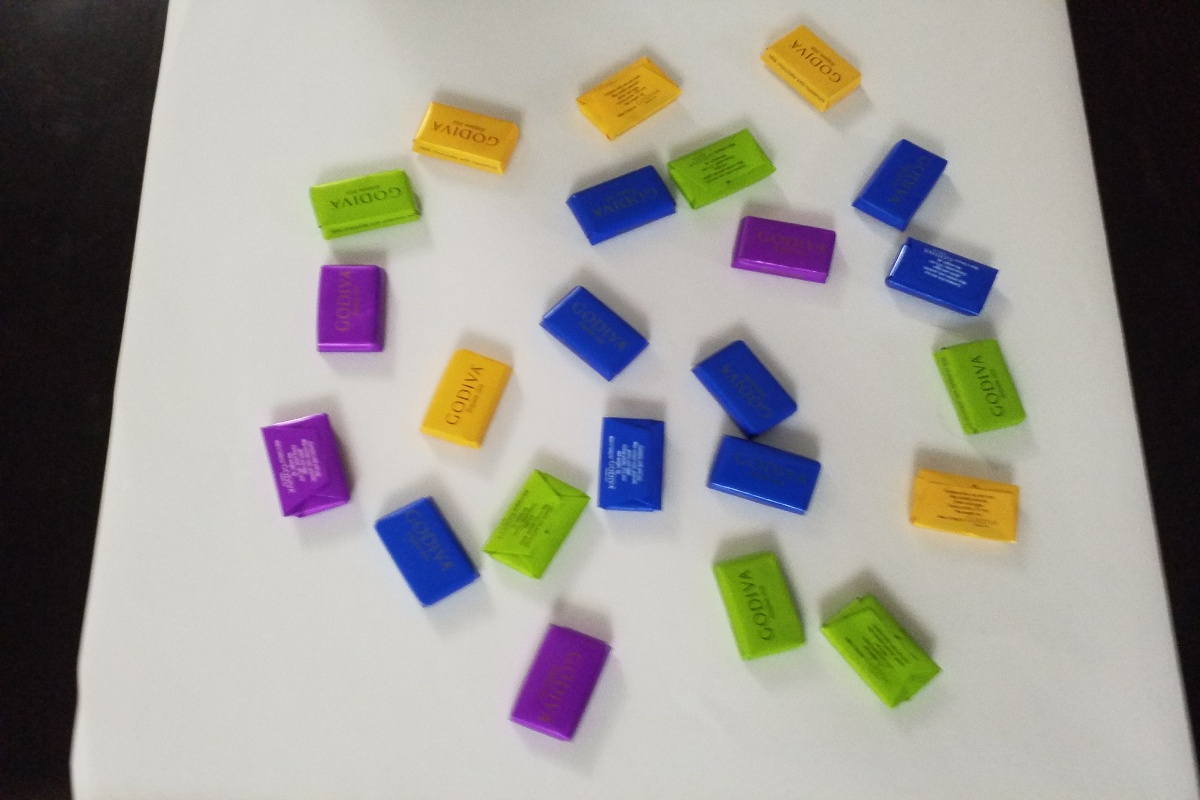chocolate_blue: (361, 496, 486, 615), (534, 287, 656, 397), (700, 427, 827, 524), (688, 339, 800, 439), (877, 237, 1006, 321), (561, 162, 682, 249), (849, 132, 953, 233), (585, 411, 678, 523)
chocolate_green: (815, 585, 947, 727), (702, 546, 814, 677), (923, 330, 1032, 449), (480, 463, 586, 581), (665, 126, 779, 204), (305, 171, 423, 242)
chocolate_purple: (504, 614, 615, 751), (250, 411, 361, 524), (302, 257, 400, 364), (719, 211, 844, 290)
chocolate_yellow: (410, 341, 519, 458), (900, 464, 1036, 553), (565, 50, 690, 146), (754, 20, 863, 121), (405, 94, 530, 181)
